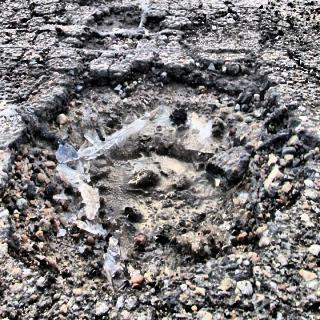pothole: (0, 55, 320, 298), (80, 3, 171, 58)
